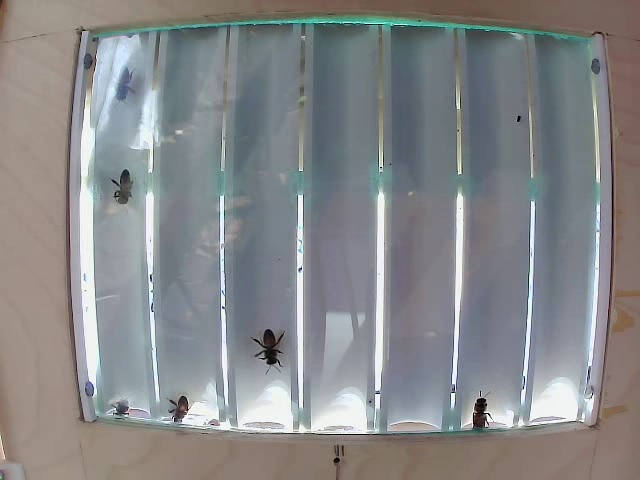bee: (260, 321, 297, 385), (106, 173, 155, 220), (463, 386, 505, 437), (104, 65, 146, 100), (169, 386, 206, 421)
